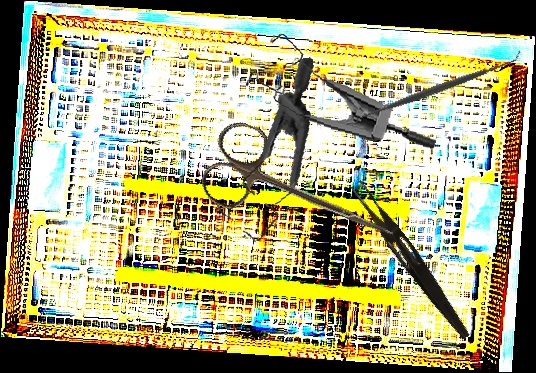Dressing Forceps: (345, 179, 478, 342)
Iris Scissors: (195, 116, 411, 270)
Spatula Surgical: (350, 48, 526, 129)
Speculum: (193, 56, 343, 248), (240, 29, 448, 151)
